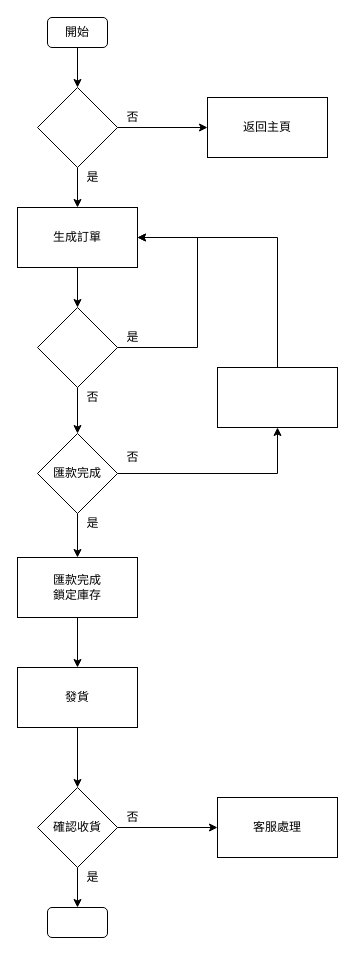
Image size: 355x955. Some labels were removed from this diagram. The shapes that lost their labels are listed below. From the top down, each one's centre as x and y in pixels, then its label:
At (x=77, y=127): "會員登入".
At (x=77, y=347): "取消訂單".
At (x=277, y=397): "匯款逾時 取消訂單".
At (x=77, y=922): "結束".
